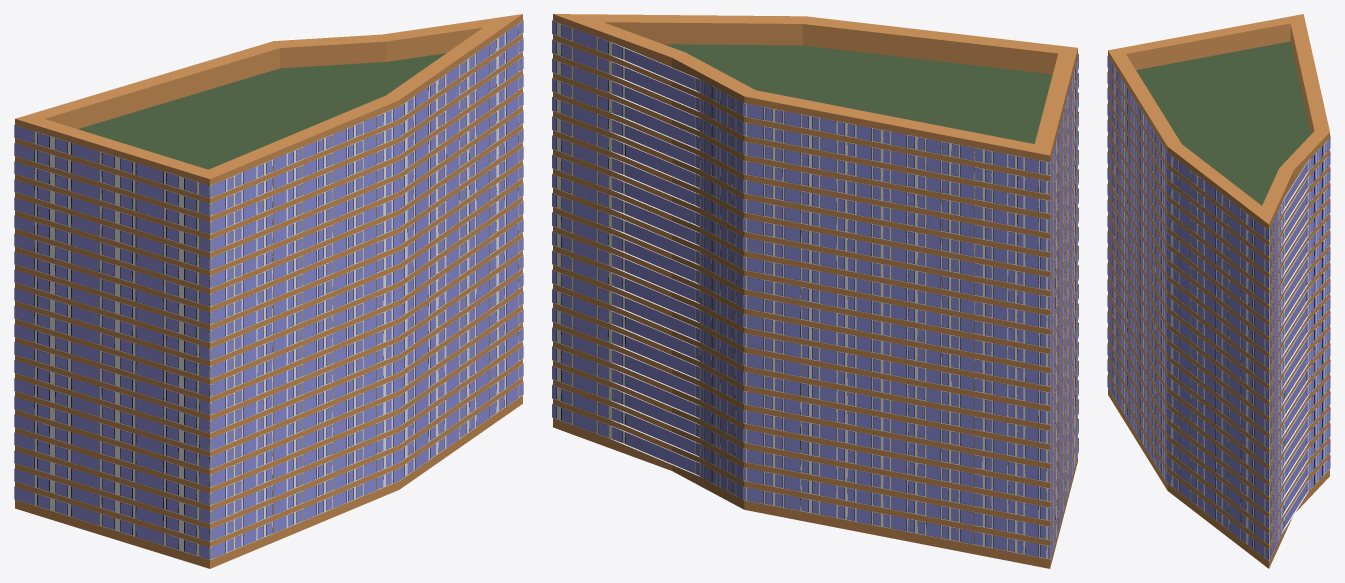
Rendered from FranciscoSkyGarden.fbx.
3 views of the same model, side by side, from view 1: azimuth 30°, elevation 25°; view 2: azimuth 150°, elevation 25°; view 3: azimuth 270°, elevation 25° (orthographic). The views are drawn at different scales.
Parts seen in each view (by area): view 1: FranciscoSkyGarden; view 2: FranciscoSkyGarden; view 3: FranciscoSkyGarden.
Part boxes in pixels (box(x1,y1,x2,y2)): FranciscoSkyGarden: box(14, 14, 523, 568); FranciscoSkyGarden: box(552, 14, 1078, 568); FranciscoSkyGarden: box(1107, 14, 1330, 568).
Size of the model in its own units: 8092 by 6155 by 3618.
